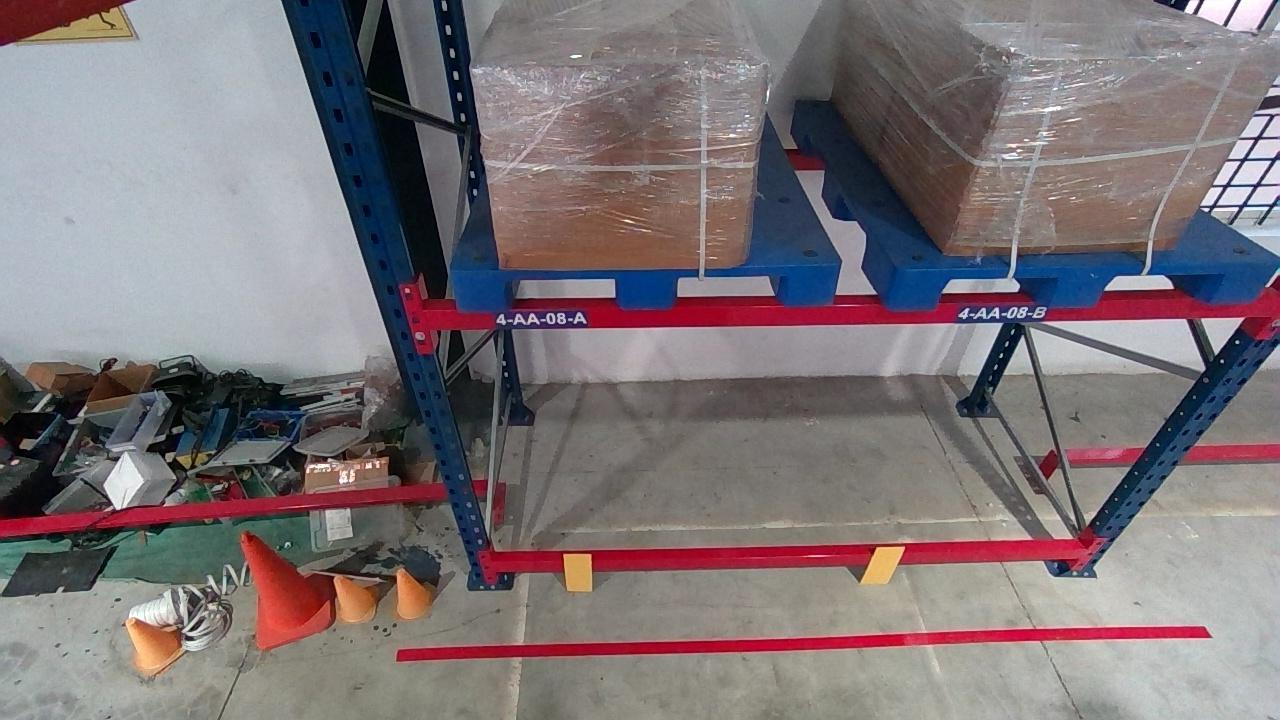h_rack: (424, 298, 1271, 327), (495, 546, 1089, 572)
orange_strip: (859, 545, 906, 583), (562, 553, 592, 591)
red_line: (395, 625, 1209, 661)
small_pallet: (890, 263, 1278, 306), (449, 265, 840, 306)
